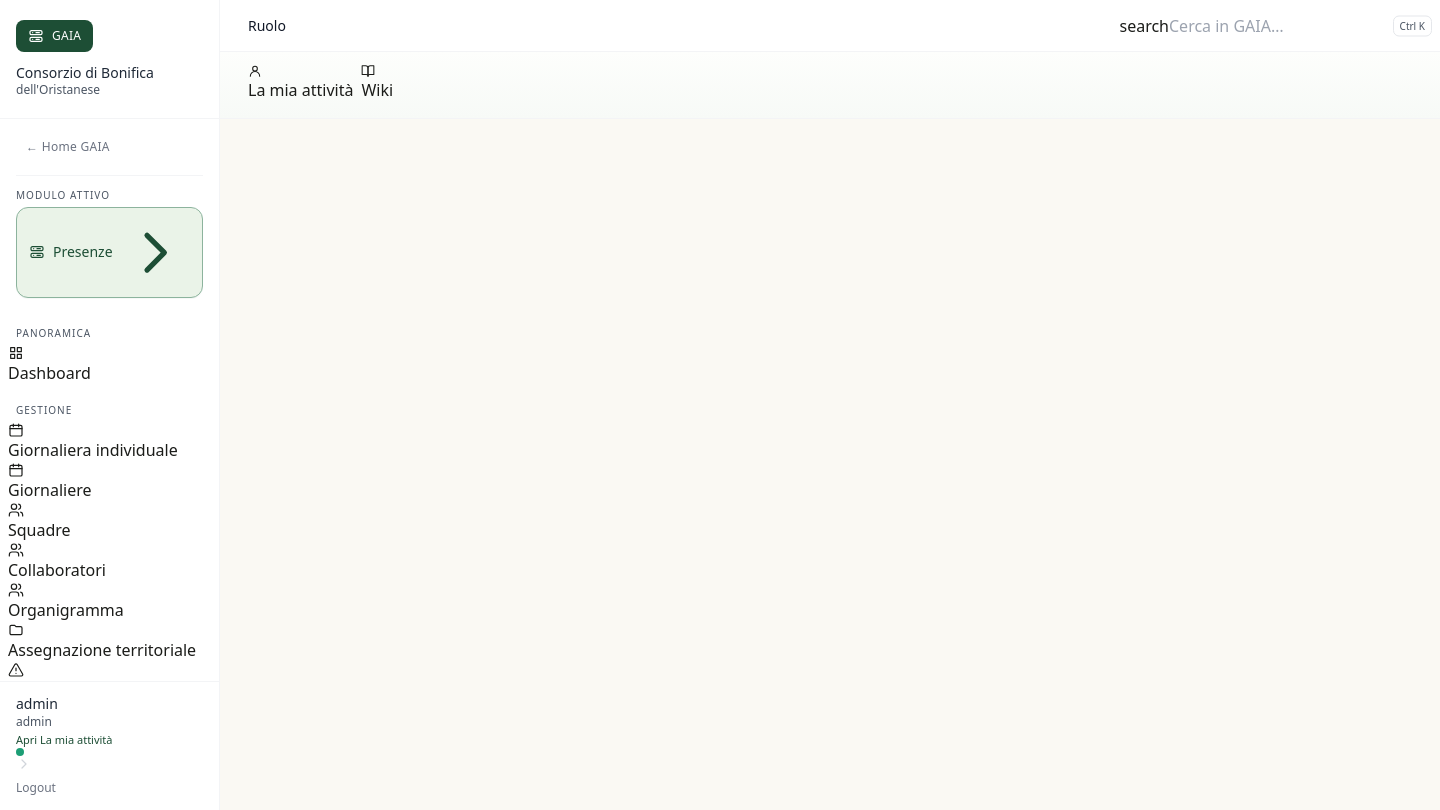
Test case: AppShell › opens the extended results modal from compact operational search for multiple matches
Type "dashboard" into the field with placeholder "Cerca in GAIA…" at (1284, 26), box [1169, 14, 1400, 38]
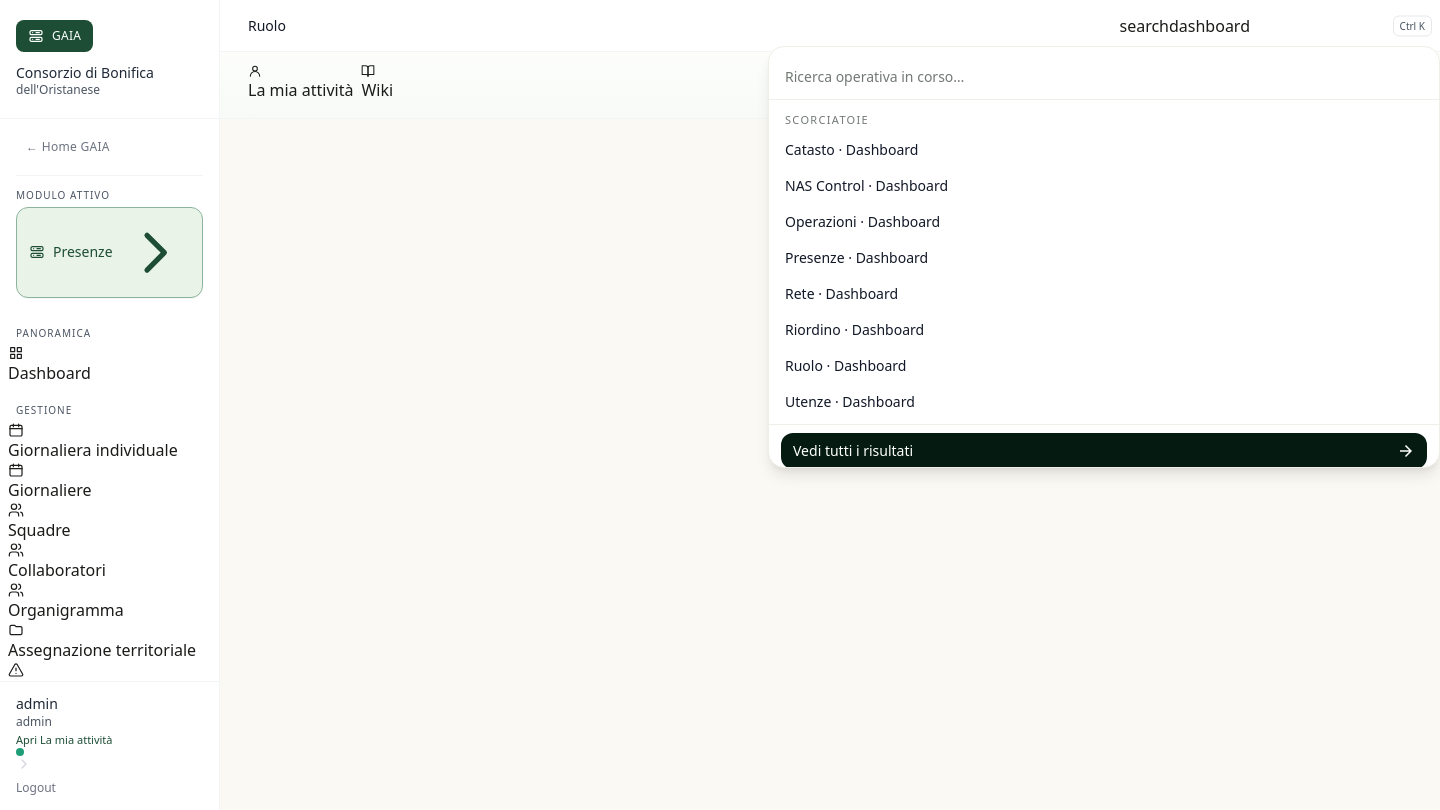
Press Enter in the field with placeholder "Cerca in GAIA…", box [1169, 14, 1400, 38]
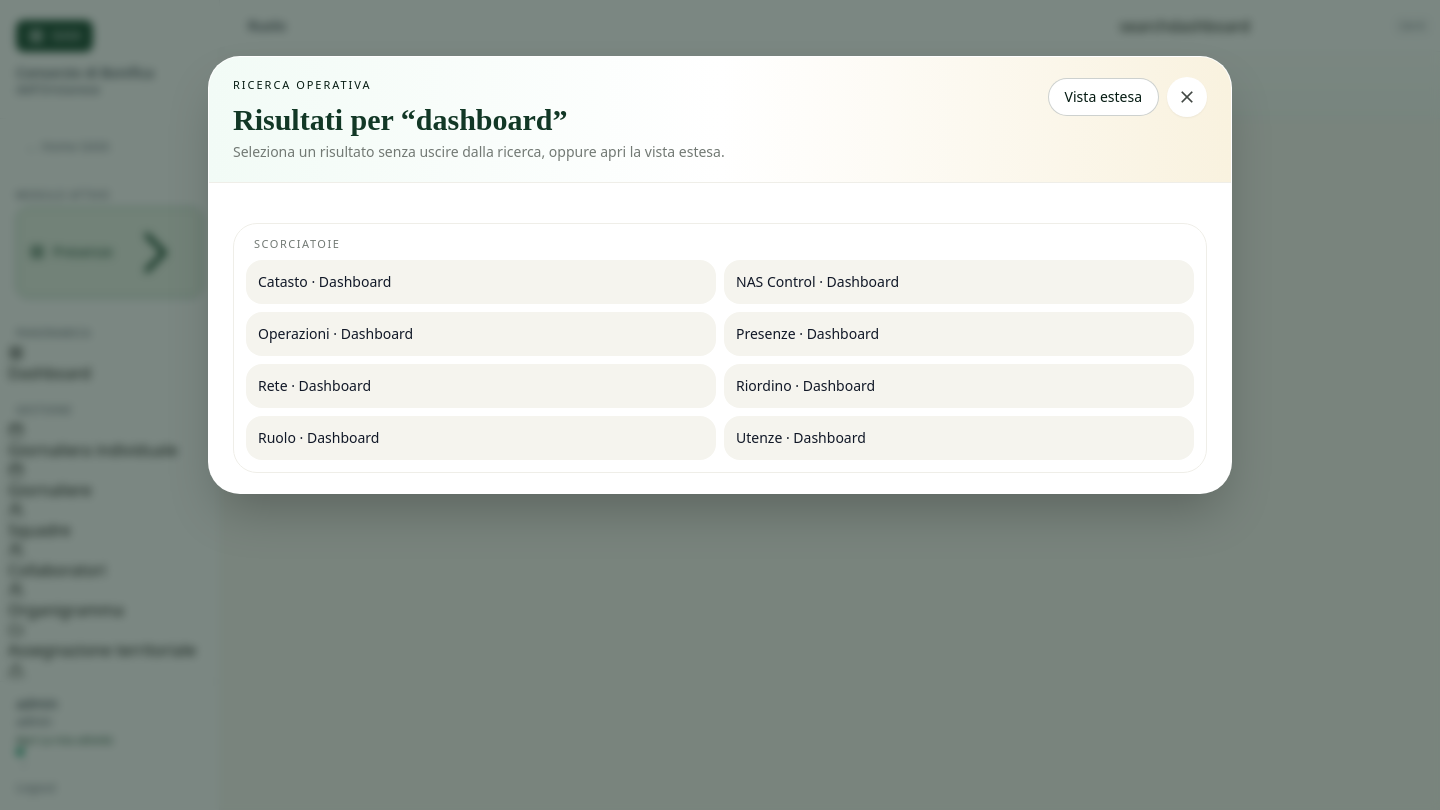
Expected: the heading "Risultati per “dashboard”" is shown, [233, 102, 568, 136]
